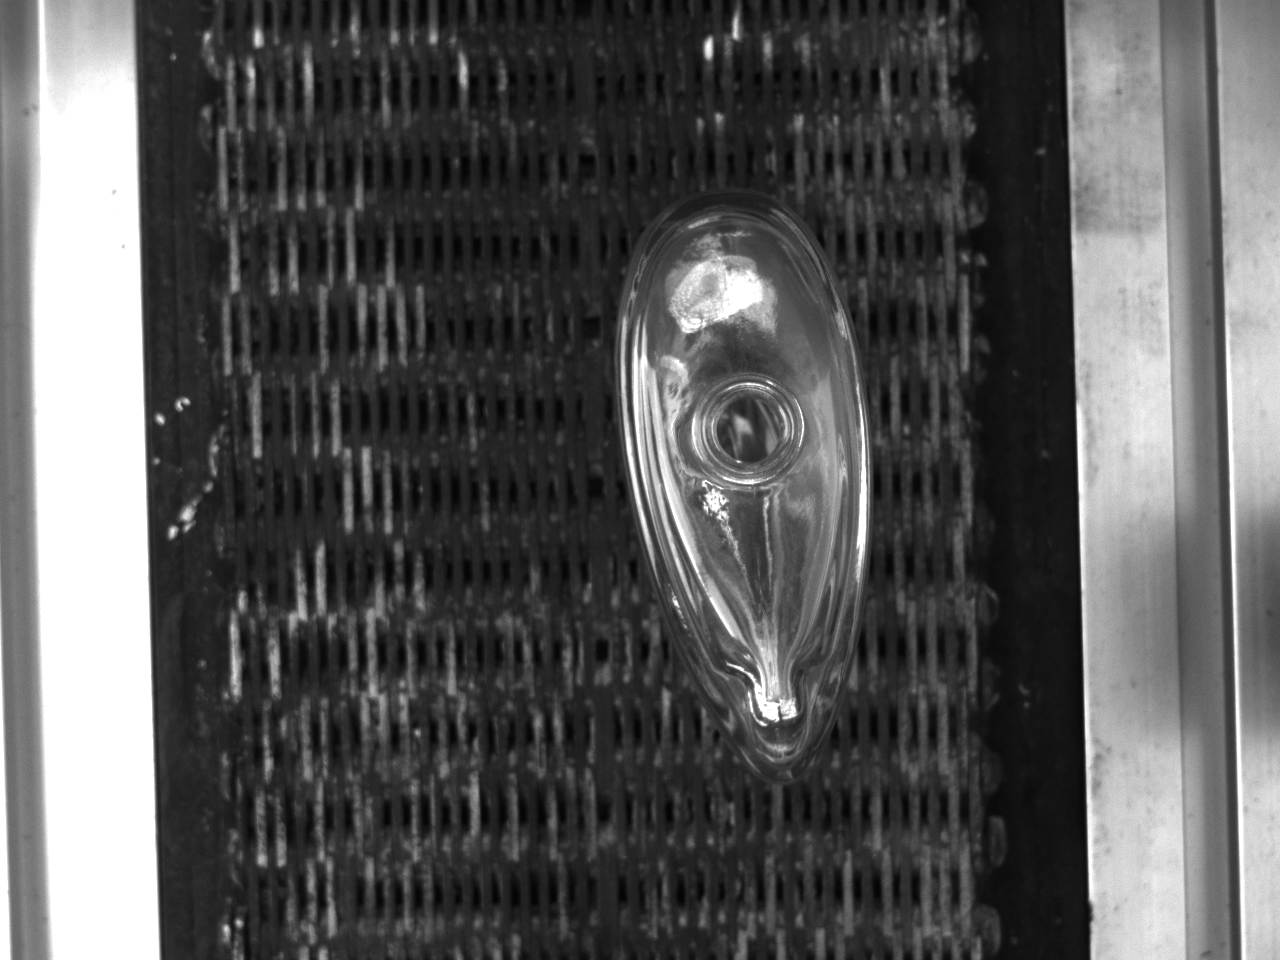bottleneck: (701, 376, 804, 481)
